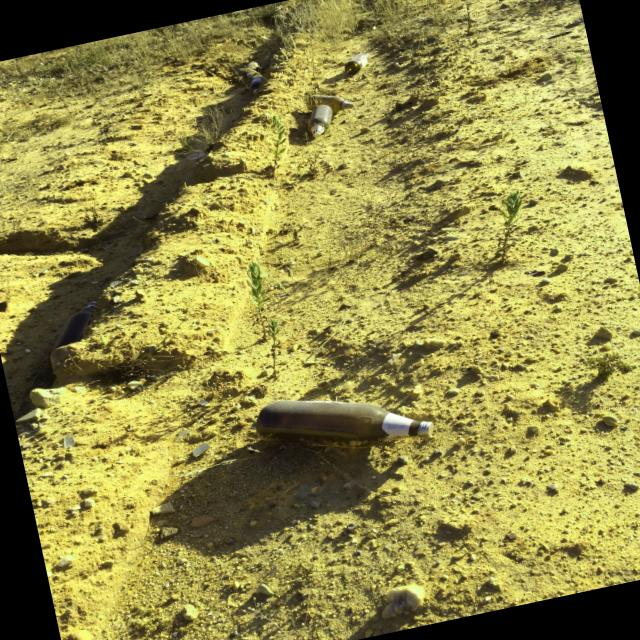less trash: (255, 399, 434, 440), (53, 300, 97, 348), (306, 94, 353, 138), (344, 52, 369, 75)
